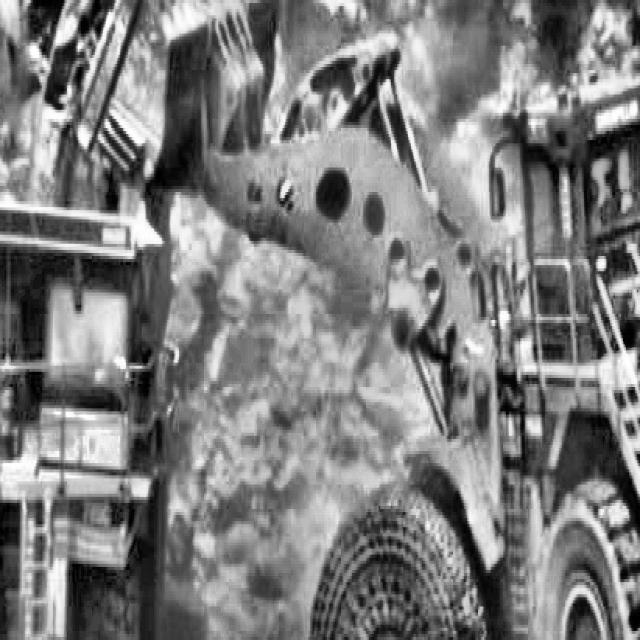buldozerpayloadergrader: (90, 0, 640, 640)
dump_truck: (0, 76, 178, 640)
